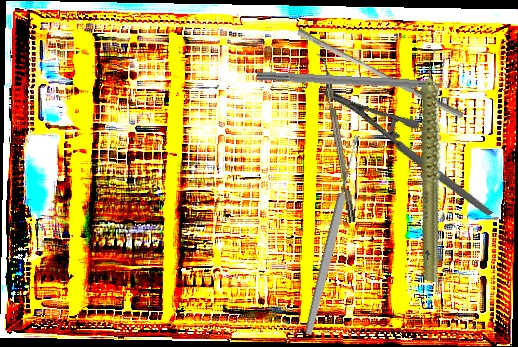Chopper: (313, 51, 356, 225)
Handpiece: (375, 47, 493, 284)
Hook Surgical: (256, 70, 467, 94)
Needle Holder: (320, 49, 494, 256)
Pusher: (293, 27, 468, 120)
Surgical Spoon: (302, 134, 364, 336)
